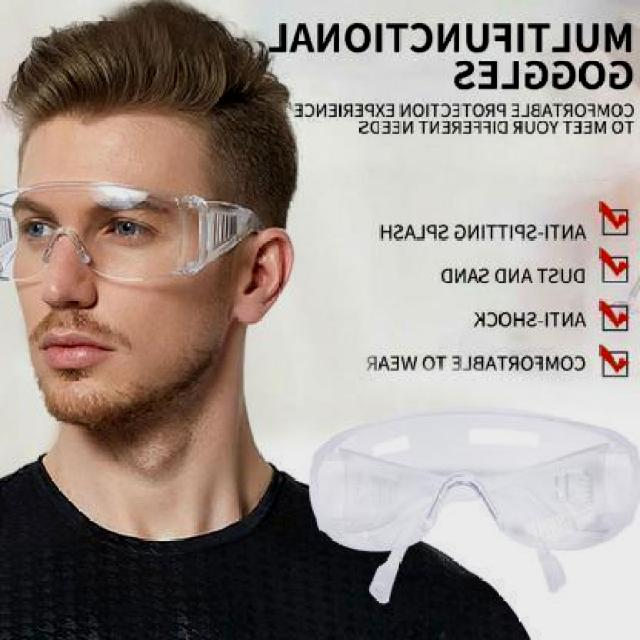face_nomask: (11, 198, 166, 388)
glasses: (0, 179, 272, 284)
head_nohelmet: (3, 14, 280, 151)
person: (0, 14, 526, 640)
